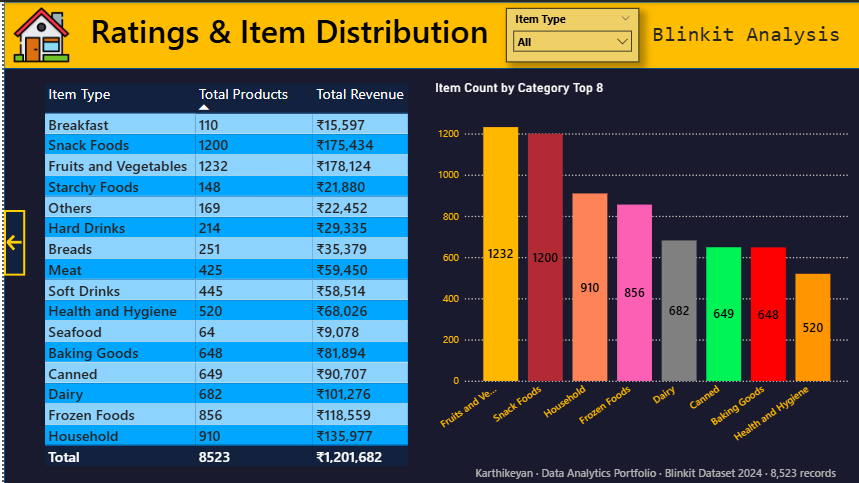

The dashboard page shown, as its layout file describes it:
{"tool":"powerbi","page":{"name":"Ratings","canvas":[1280,720],"ordinal":5},"visuals":[{"type":"shape","box":[0,0,1280,720.6],"z":0},{"type":"shape","box":[0,98.6,1280.2,621.4],"z":1000},{"type":"textbox","box":[103.1,4.5,646.8,88.1],"z":2000},{"type":"textbox","box":[963.5,23.9,316.7,49.3],"z":3000},{"type":"clusteredColumnChart","title":"Item Count by Category Top 8","fields":{"Category":["blinkit_cleaned.Item Type"],"Y":["blinkit_cleaned.Item Count"]},"box":[640,116.2,627.9,567.5],"z":4000},{"type":"slicer","fields":{"Values":["blinkit_cleaned.Item Type"]},"box":[749.9,9,198.7,80.7],"z":5000},{"type":"textbox","box":[666.1,687.1,613.9,32.9],"z":6000},{"type":"tableEx","fields":{"Values":["blinkit_cleaned.Item Type","blinkit_cleaned.Total Products","blinkit_cleaned.Total Revenue"]},"box":[55.8,116.2,558.5,587.2],"z":7000},{"type":"actionButton","box":[0,310.9,31.7,98.1],"z":8000},{"type":"image","box":[10.6,7.5,90.6,83],"z":9000}]}

Visuals, with their boxes in screenshot pixels (x1, y1, x2, y2), scaled from the page's 1280x720 canvas onto the 859x483 screenshot:
shape: pyautogui.locateOnScreen(0, 0, 858, 482)
shape: pyautogui.locateOnScreen(0, 66, 858, 482)
textbox: pyautogui.locateOnScreen(69, 3, 503, 62)
textbox: pyautogui.locateOnScreen(647, 16, 858, 49)
"Item Count by Category Top 8" clusteredColumnChart: pyautogui.locateOnScreen(430, 78, 851, 459)
slicer - blinkit_cleaned.Item Type: pyautogui.locateOnScreen(503, 6, 637, 60)
textbox: pyautogui.locateOnScreen(447, 461, 858, 482)
tableEx - blinkit_cleaned.Item Type x blinkit_cleaned.Total Products: pyautogui.locateOnScreen(37, 78, 412, 472)
actionButton: pyautogui.locateOnScreen(0, 209, 21, 274)
image: pyautogui.locateOnScreen(7, 5, 68, 61)
